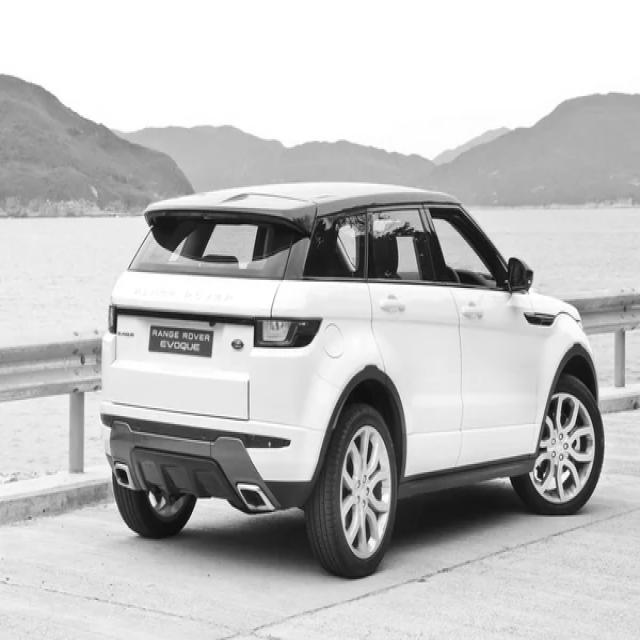Car: (101, 182, 606, 578)
